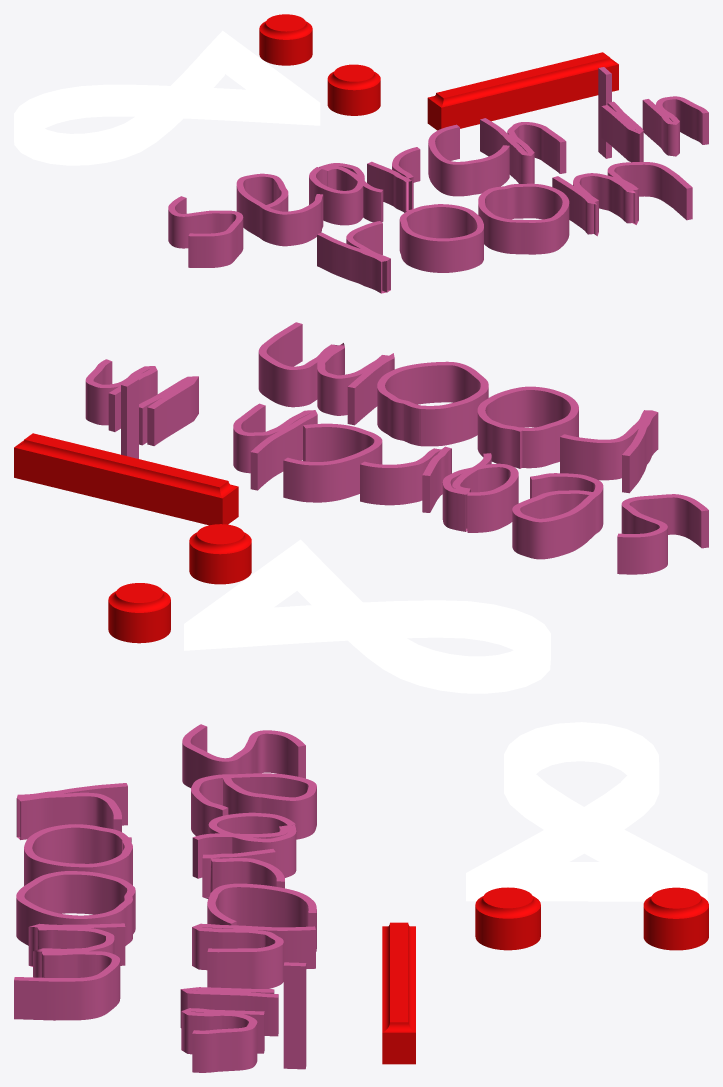
3 renders of one model, top to bottom at view 1: azimuth 30°, elevation 25°; view 2: azimuth 150°, elevation 25°; view 3: azimuth 270°, elevation 25°, orthographic. The views are drawn at different scales.
Visible parts, largest first — view 1: Freehand001, Line001, TextPlus002; view 2: Freehand001, Line001, TextPlus002; view 3: Freehand001, Line001, TextPlus002.
Part boxes in pixels (x1,y1,x2,y2): Freehand001: (168,67,708,293); Line001: (14,30,320,165); TextPlus002: (259,14,618,130); Freehand001: (85,322,708,574); Line001: (184,539,550,693); TextPlus002: (14,433,251,643); Freehand001: (14,724,316,1072); Line001: (466,722,707,901); TextPlus002: (382,887,708,1064).
Size of the model in its own units: 0.6674 by 0.1011 by 0.6178.
